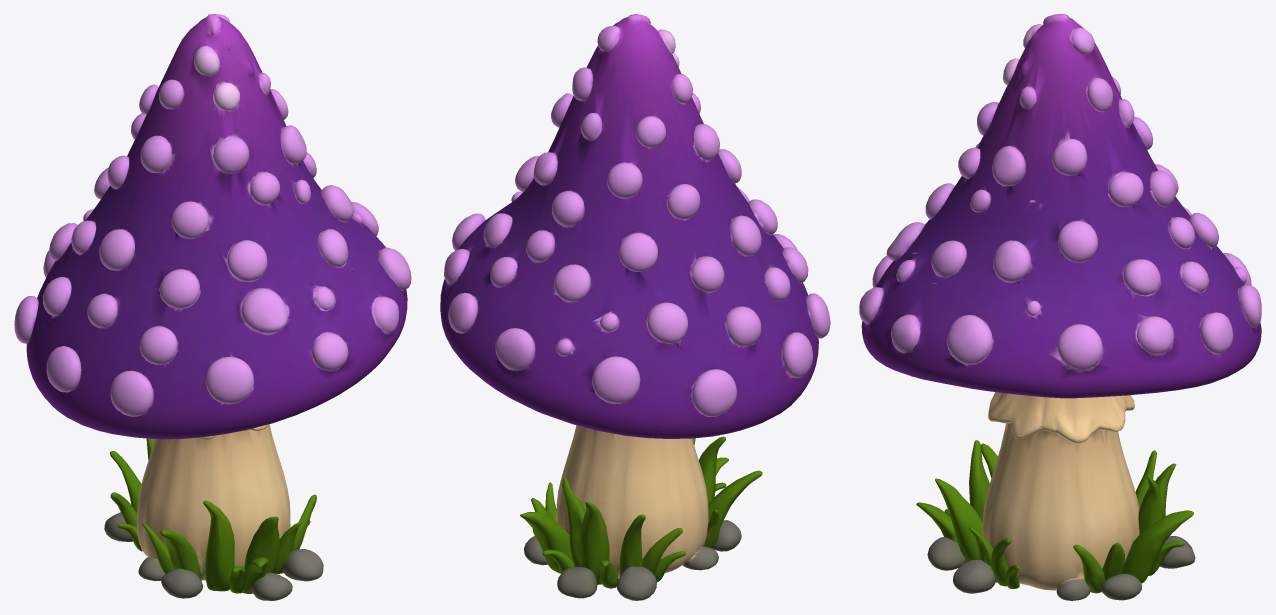
The model's file is shroom_spotted.glb.
3 views of the same model, side by side, from view 1: azimuth 30°, elevation 25°; view 2: azimuth 150°, elevation 25°; view 3: azimuth 270°, elevation 25° (orthographic). The views are drawn at different scales.
Visible parts, largest first — view 1: tripo_node_fa63915f-ca78-4fd6-ae6a-f5e3b34e1282; view 2: tripo_node_fa63915f-ca78-4fd6-ae6a-f5e3b34e1282; view 3: tripo_node_fa63915f-ca78-4fd6-ae6a-f5e3b34e1282.
Boxes of the visible parts, left/top/right/bottom form: tripo_node_fa63915f-ca78-4fd6-ae6a-f5e3b34e1282: left=14, top=14, right=411, bottom=600; tripo_node_fa63915f-ca78-4fd6-ae6a-f5e3b34e1282: left=440, top=14, right=830, bottom=600; tripo_node_fa63915f-ca78-4fd6-ae6a-f5e3b34e1282: left=859, top=14, right=1261, bottom=600.
Size of the model in its own units: 0.8523 by 1.3 by 0.8641.
Materials: 1 (1 with a texture image).
